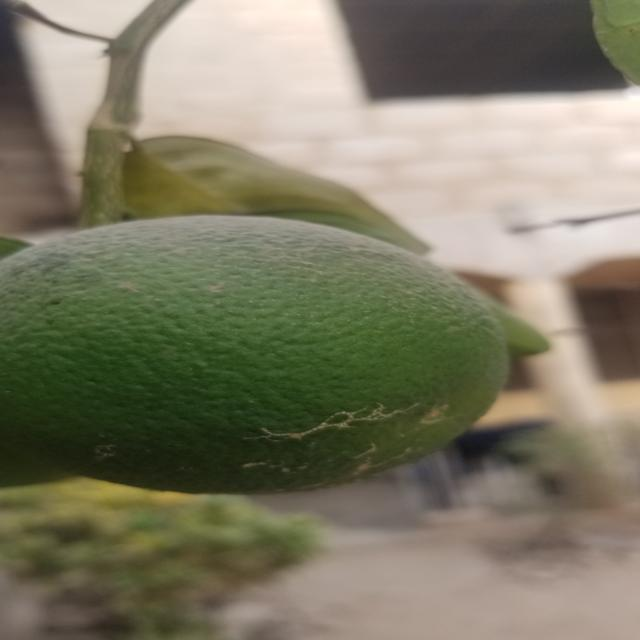Unripe: (16, 210, 490, 486)
